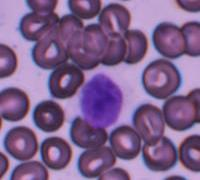L: (77, 68, 128, 130)
